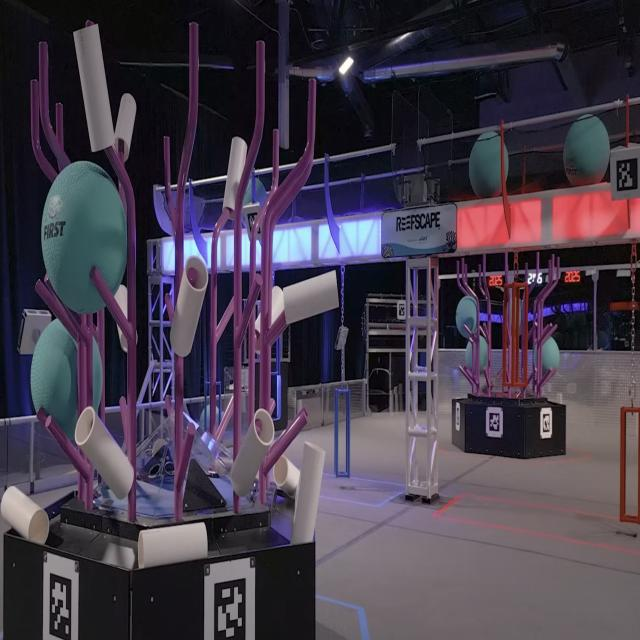Algae: (41, 160, 128, 314), (29, 317, 102, 443), (563, 113, 610, 186), (468, 129, 509, 199), (241, 177, 267, 230), (532, 334, 560, 376), (455, 294, 477, 338), (465, 334, 488, 374), (506, 298, 522, 337)
Coral: (74, 407, 134, 500), (73, 24, 116, 152), (230, 408, 274, 497), (170, 255, 208, 357), (289, 442, 326, 544), (138, 522, 208, 570), (283, 270, 339, 324), (1, 486, 49, 544), (222, 137, 248, 221), (114, 286, 137, 354), (114, 93, 136, 162), (255, 286, 284, 335), (273, 454, 302, 498)
Reef: (45, 272, 88, 348), (90, 266, 133, 340), (46, 415, 90, 481), (264, 411, 308, 476), (35, 280, 78, 342), (236, 273, 263, 348), (270, 406, 308, 453), (176, 423, 195, 490), (189, 22, 199, 126), (255, 40, 265, 132), (40, 42, 49, 138), (216, 296, 234, 344), (216, 396, 233, 442), (307, 78, 316, 150), (31, 79, 39, 157), (164, 136, 172, 199), (120, 396, 128, 451), (272, 128, 280, 182), (56, 103, 63, 149), (541, 368, 557, 388), (542, 324, 558, 344), (538, 323, 552, 344), (165, 294, 174, 326), (464, 366, 478, 385), (459, 366, 473, 385), (464, 323, 476, 343), (539, 367, 551, 387), (36, 407, 46, 426), (527, 366, 537, 384), (528, 322, 538, 340), (165, 394, 173, 416), (480, 325, 488, 342), (483, 322, 489, 343), (483, 368, 489, 388), (270, 398, 276, 416), (92, 323, 97, 342), (548, 260, 552, 281), (536, 252, 539, 272), (525, 263, 528, 281), (479, 264, 481, 288), (552, 254, 554, 278), (457, 261, 459, 284), (462, 258, 464, 280), (483, 254, 485, 276), (557, 257, 559, 279), (505, 253, 507, 274), (466, 264, 468, 283), (507, 369, 509, 388), (468, 337, 473, 344)
